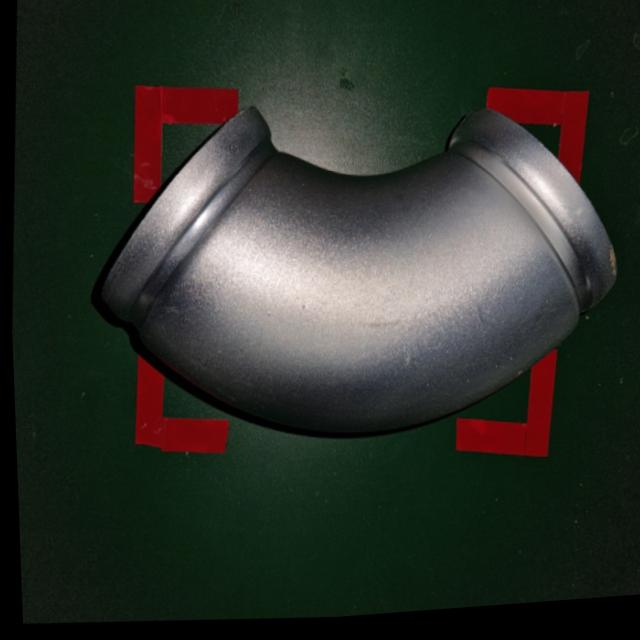Normal: (75, 82, 635, 483)
